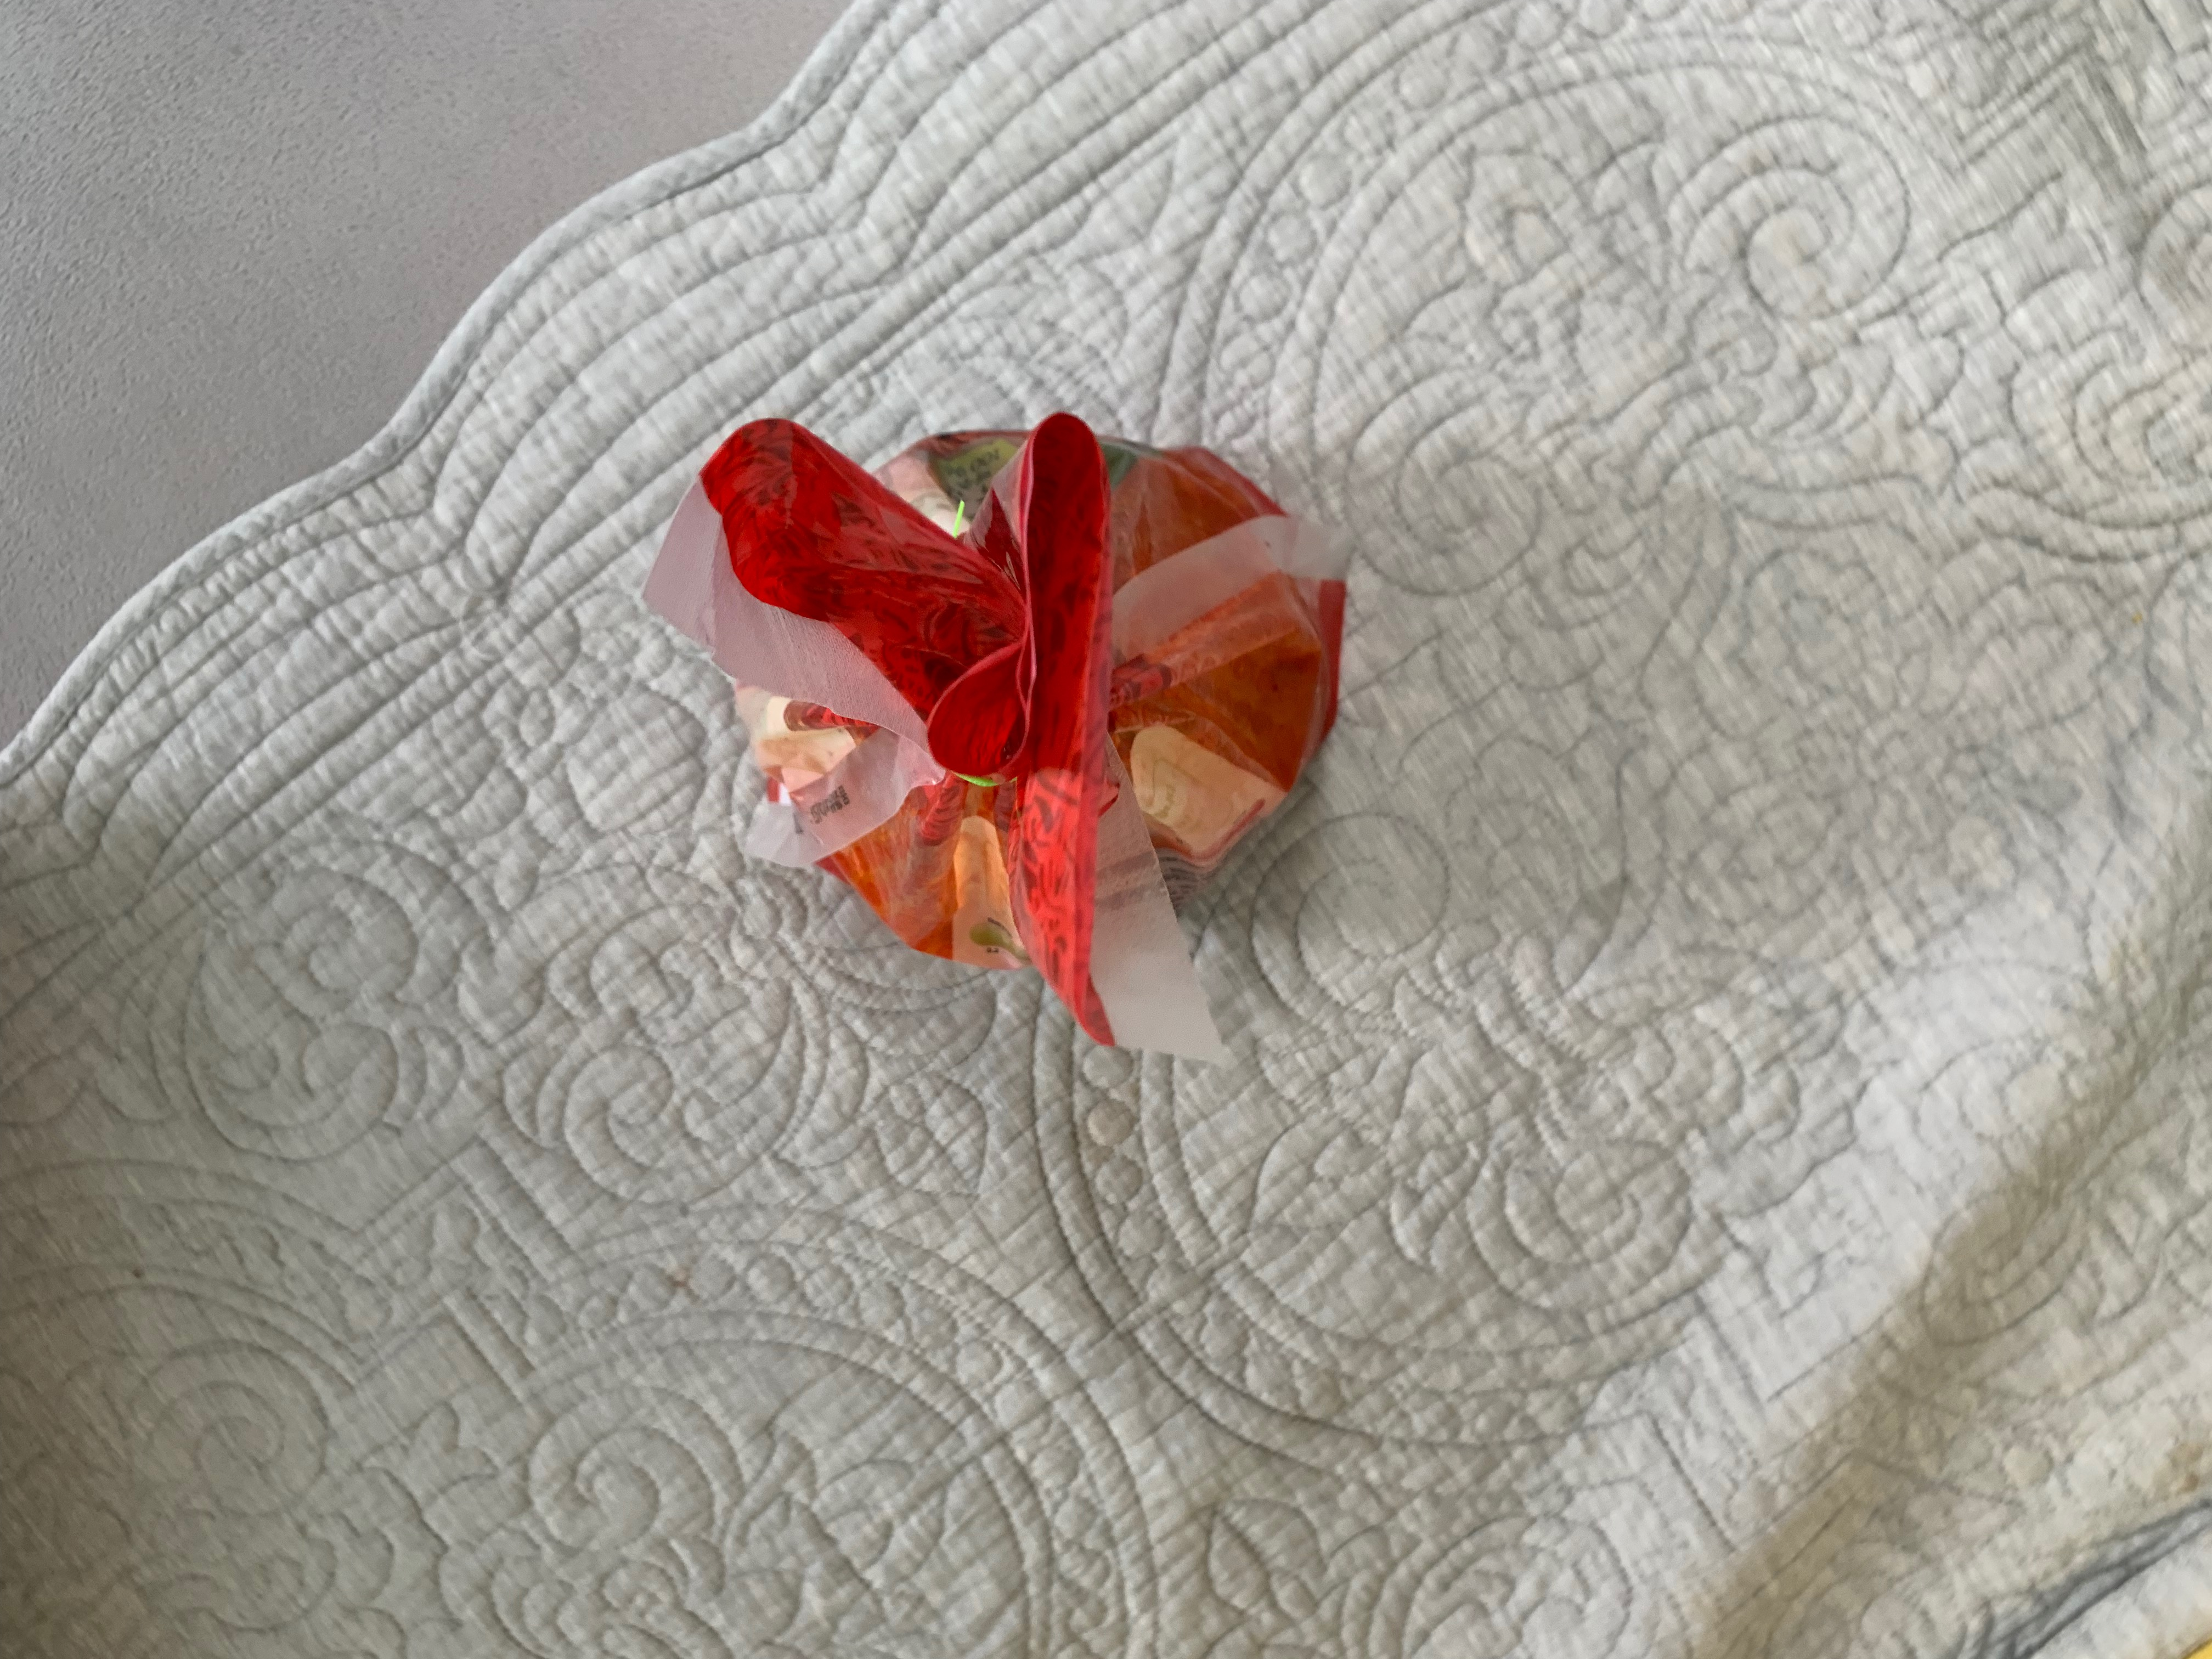kimchi: (700, 413, 1352, 971)
